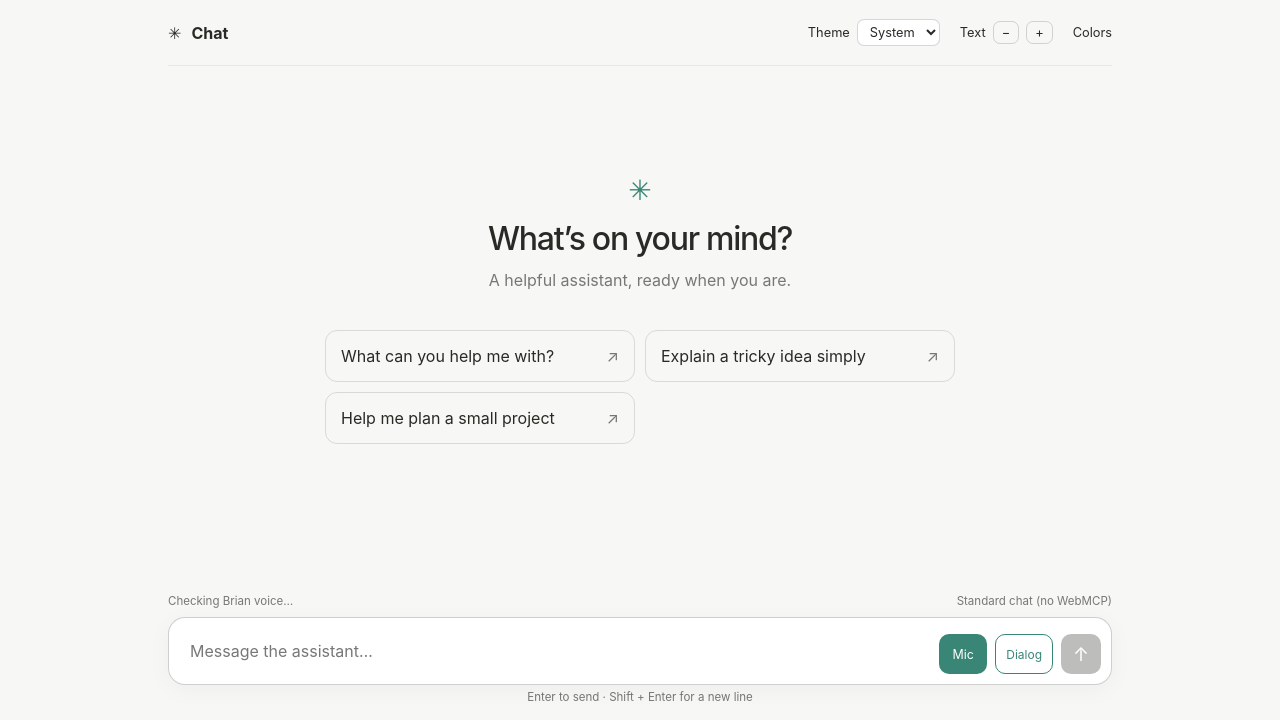
Test: Dialog integration › hides Live, shows Dialog transcripts, applies shared tools and ends on another action
The image size is (1280, 720).
Click the button with aria-label "Start Dialog" at (1024, 654), box [995, 634, 1053, 674]
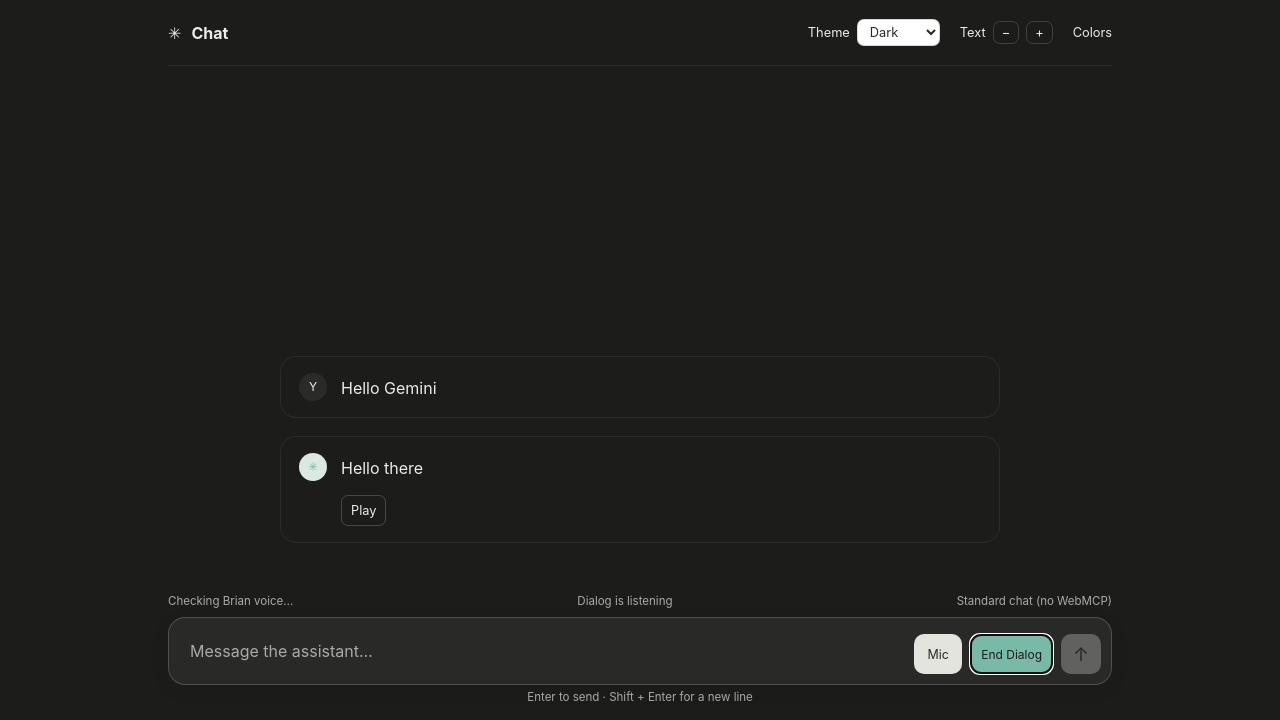
Now the text "Dialog is listening" is shown, box [577, 594, 672, 610]
Now the text "Hello Gemini" is shown, box [341, 378, 436, 398]
Now the text "Hello there" is shown, box [341, 458, 423, 478]
Click the button "Play" at (364, 511), box [341, 495, 386, 526]
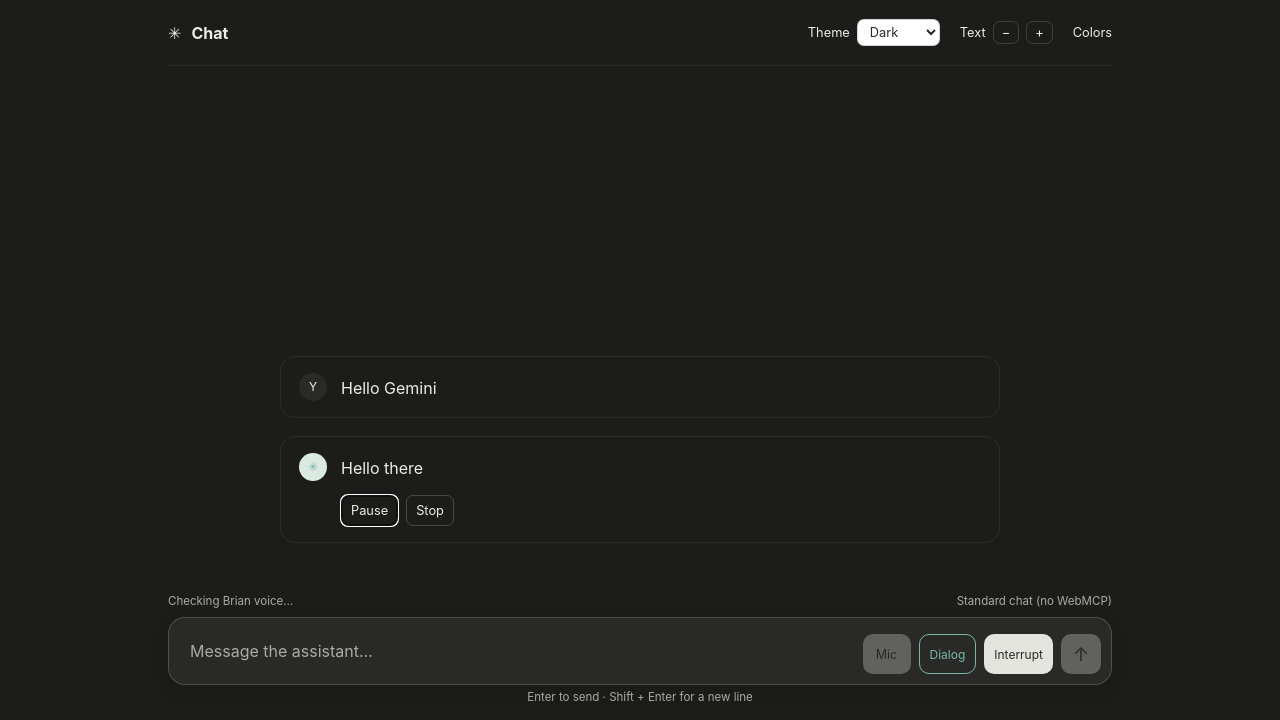
Now the button with aria-label "Start Dialog" is shown, box [918, 634, 976, 674]
